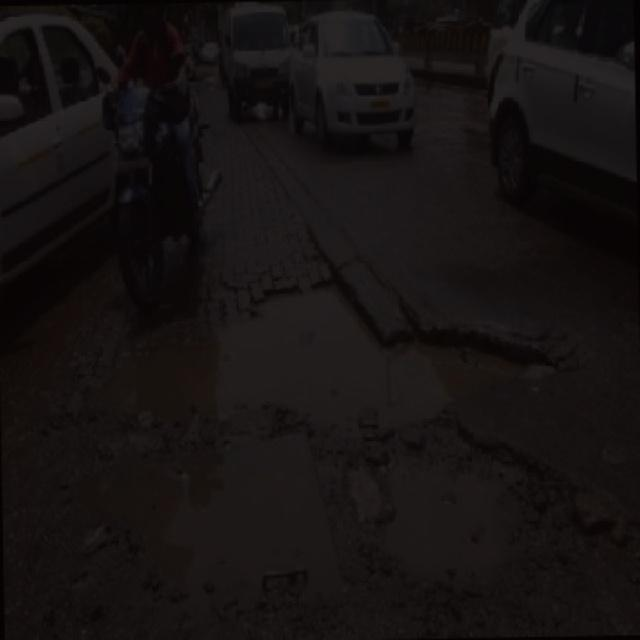Pothole: (47, 252, 571, 620)
